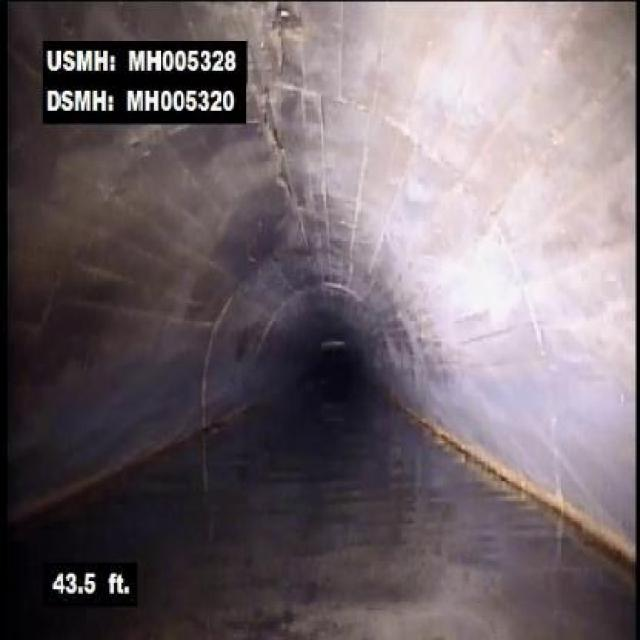Buckling: (254, 105, 294, 197)
Crack: (258, 0, 303, 92)
